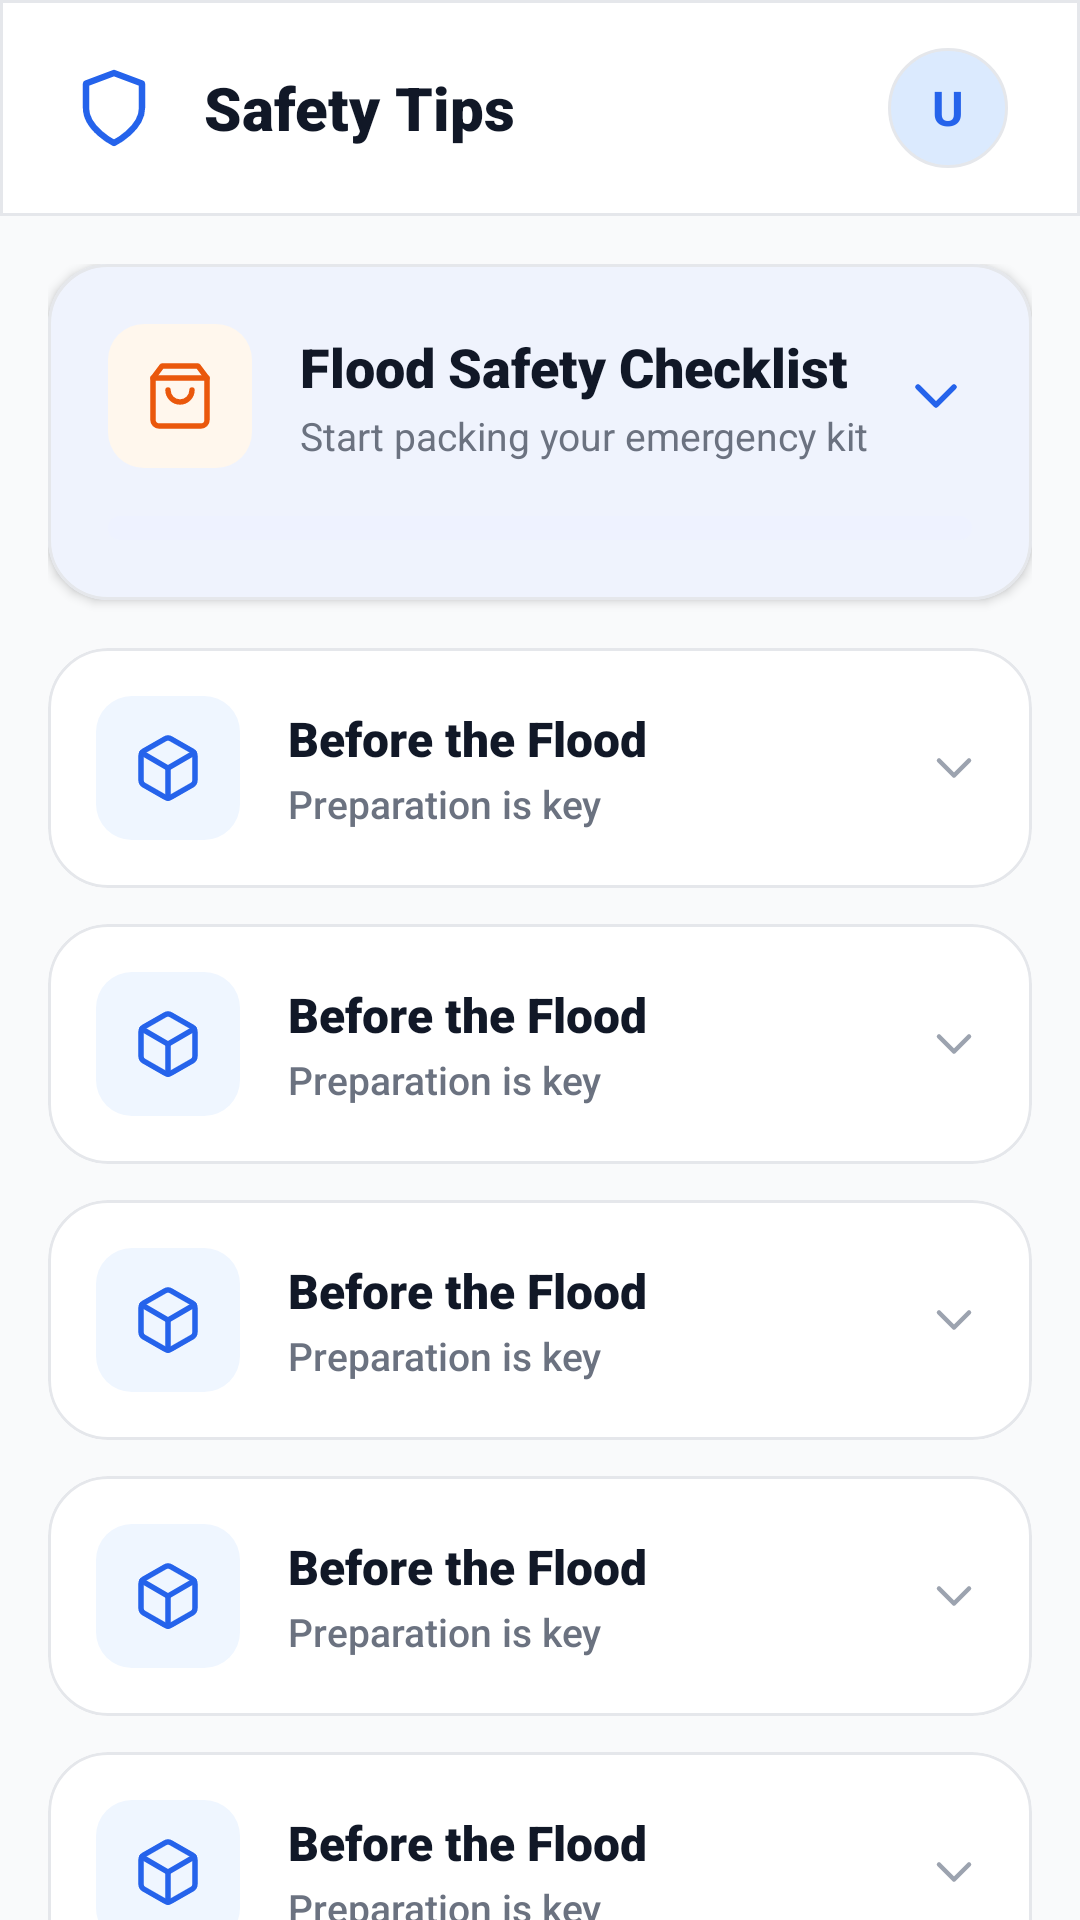

Icon click points for this 1080 × 1920 phone screenshot, format (x,y):
box: (168,768), (168,1044), (168,1320), (168,1596), (168,1872)
chevron down: (936,396), (954,768), (954,1044), (954,1320), (954,1596), (954,1872)
gobag: (180,396)
